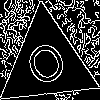O: (22, 38, 76, 98)
